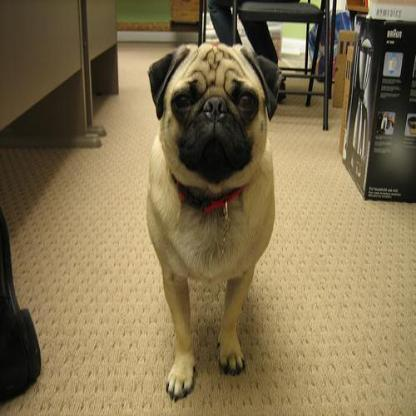pug: (142, 39, 281, 399)
